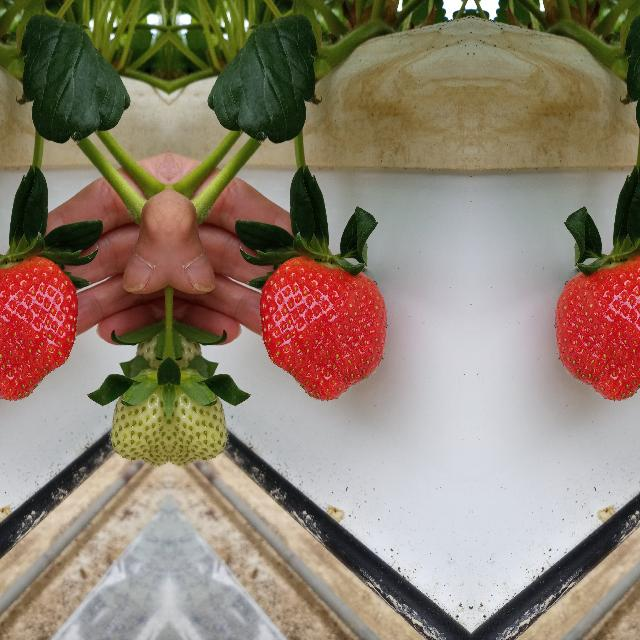Health_100: (257, 255, 387, 400), (554, 255, 640, 400), (0, 255, 79, 400)
Health_25: (168, 360, 226, 474), (110, 360, 168, 474)
